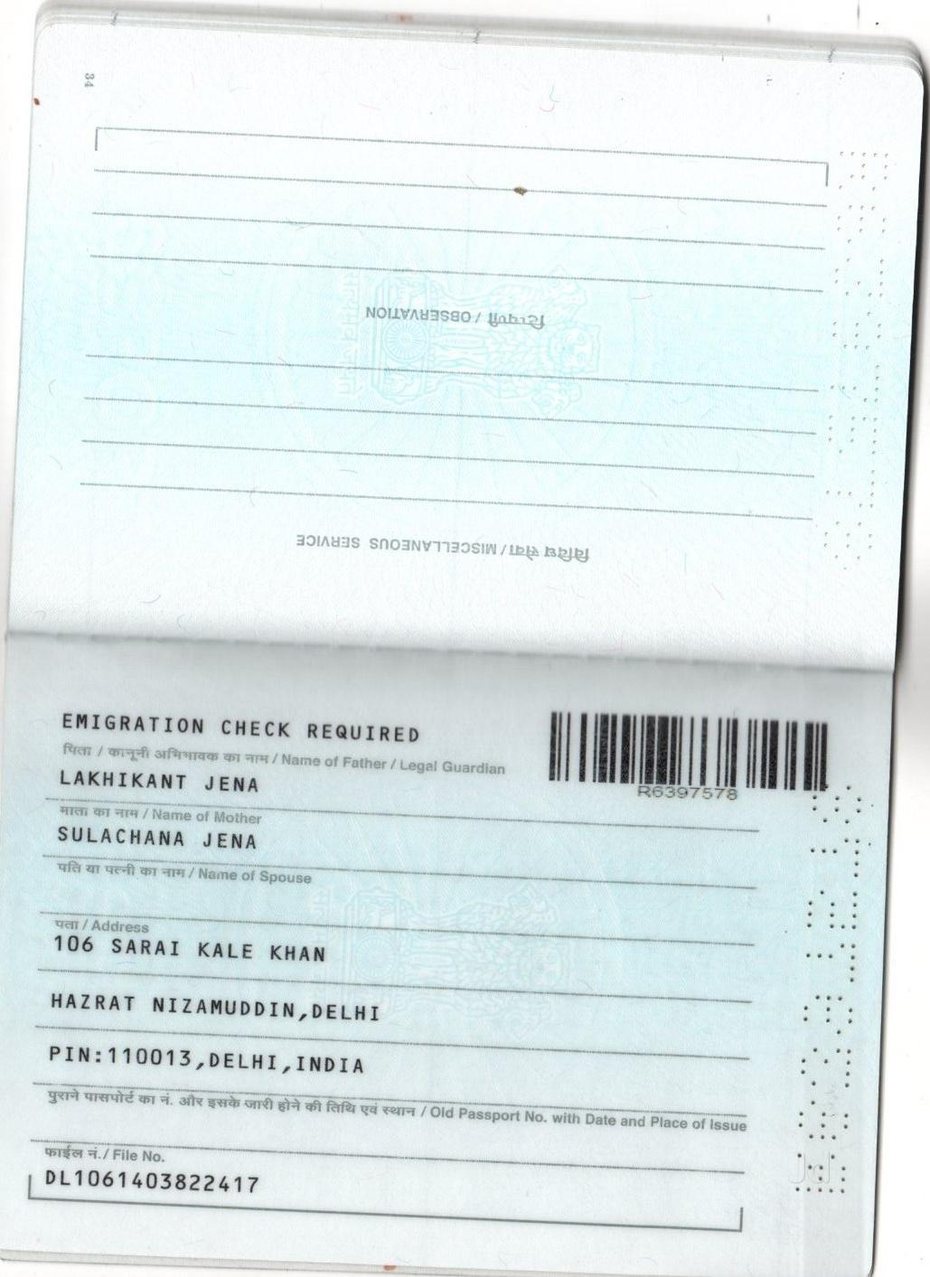File_no: (37, 1160, 268, 1197)
address: (31, 929, 443, 1082)
father_name: (43, 755, 287, 805)
mother_name: (52, 809, 277, 870)
passport_no: (630, 781, 738, 810)
